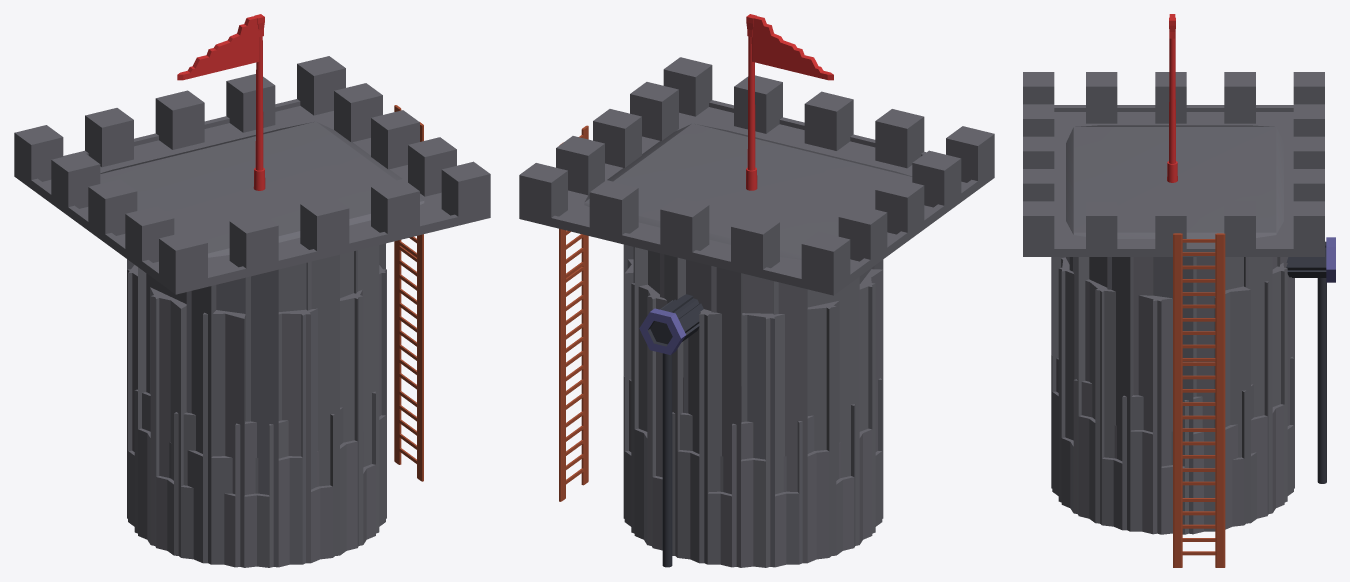
The model's file is tower.glb.
The picture shows the model from 3 angles, left to right: view 1: azimuth 30°, elevation 25°; view 2: azimuth 150°, elevation 25°; view 3: azimuth 270°, elevation 25°; orthographic projection. The views are drawn at different scales.
Parts seen in each view (by area): view 1: mergedBlocks(Clone); view 2: mergedBlocks(Clone); view 3: mergedBlocks(Clone).
Part boxes in pixels (bbox=[...]): mergedBlocks(Clone): bbox=[14, 14, 490, 567]; mergedBlocks(Clone): bbox=[519, 14, 994, 567]; mergedBlocks(Clone): bbox=[1023, 14, 1335, 567].
Bounding box in the file's own units: 7.83 × 11.5 × 6.89.
